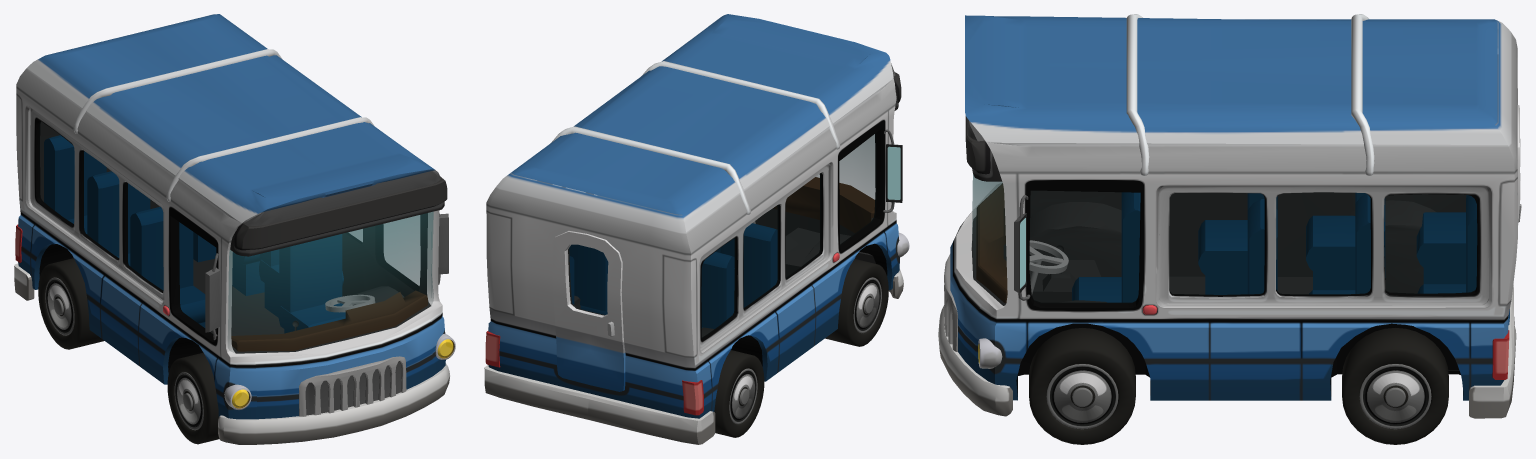
Rendered from bus.glb.
The picture shows the model from 3 angles, left to right: view 1: azimuth 30°, elevation 25°; view 2: azimuth 150°, elevation 25°; view 3: azimuth 270°, elevation 25°; orthographic projection. The views are drawn at different scales.
Parts seen in each view (by area): view 1: HCR2_Bus_Body_25, HCR2_Bus_Windows_0, HCR2_Bus_Seats_3, HCR2_Bus_Interior_12, HCR2_Bus_Front_Bumper_17, HCR2_Bus_Header_14, HCR2_Bus_Dash_23, HCR2_Bus_Grl_15, HCR2_Bus_Header_H_13, HCR2_Bus_Roof_El_4, HCR2_Bus_RR_Tire_7, HCR2_Bus_FR_Tire_18 (+6 smaller); view 2: HCR2_Bus_Body_25, HCR2_Bus_Windows_0, HCR2_Bus_Door_22, HCR2_Bus_Seats_3, HCR2_Bus_Rear_Bumper_6, HCR2_Bus_Roof_El_4, HCR2_Bus_Interior_12, HCR2_Bus_FR_Tire_18, HCR2_Bus_Dash_23, HCR2_Bus_RR_Tire_7, HCR2_Bus_RR_Rim_8, HCR2_Bus_Rear_Lights_5 (+2 smaller); view 3: HCR2_Bus_Body_25, HCR2_Bus_Windows_0, HCR2_Bus_Interior_12, HCR2_Bus_Seats_3, HCR2_Bus_FL_Tire_20, HCR2_Bus_RL_Tire_9, HCR2_Bus_RL_Rim_10, HCR2_Bus_FL_Rim_21, HCR2_Bus_Roof_El_4, HCR2_Bus_Dash_23, HCR2_Bus_Front_Bumper_17, HCR2_Bus_Rear_Bumper_6 (+7 smaller).
Part boxes in pixels (bbox=[...]): HCR2_Bus_Body_25: bbox=[16, 14, 445, 419]; HCR2_Bus_Windows_0: bbox=[39, 121, 433, 352]; HCR2_Bus_Seats_3: bbox=[44, 135, 345, 333]; HCR2_Bus_Interior_12: bbox=[40, 121, 430, 353]; HCR2_Bus_Front_Bumper_17: bbox=[218, 363, 449, 444]; HCR2_Bus_Header_14: bbox=[234, 177, 447, 250]; HCR2_Bus_Dash_23: bbox=[231, 290, 427, 351]; HCR2_Bus_Grl_15: bbox=[299, 356, 406, 416]; HCR2_Bus_Header_H_13: bbox=[230, 171, 444, 256]; HCR2_Bus_Roof_El_4: bbox=[73, 49, 374, 201]; HCR2_Bus_RR_Tire_7: bbox=[38, 258, 104, 349]; HCR2_Bus_FR_Tire_18: bbox=[167, 352, 219, 444]; HCR2_Bus_Body_25: bbox=[486, 14, 899, 418]; HCR2_Bus_Windows_0: bbox=[701, 133, 876, 337]; HCR2_Bus_Door_22: bbox=[551, 231, 625, 391]; HCR2_Bus_Seats_3: bbox=[569, 195, 777, 328]; HCR2_Bus_Rear_Bumper_6: bbox=[484, 365, 715, 444]; HCR2_Bus_Roof_El_4: bbox=[551, 61, 840, 214]; HCR2_Bus_Interior_12: bbox=[537, 180, 875, 337]; HCR2_Bus_FR_Tire_18: bbox=[825, 259, 888, 346]; HCR2_Bus_Dash_23: bbox=[752, 177, 874, 233]; HCR2_Bus_RR_Tire_7: bbox=[714, 350, 764, 437]; HCR2_Bus_RR_Rim_8: bbox=[729, 368, 757, 424]; HCR2_Bus_Rear_Lights_5: bbox=[485, 331, 703, 415]; HCR2_Bus_Body_25: bbox=[950, 15, 1517, 400]; HCR2_Bus_Windows_0: bbox=[972, 174, 1476, 305]; HCR2_Bus_Interior_12: bbox=[971, 55, 1498, 370]; HCR2_Bus_Seats_3: bbox=[1072, 192, 1477, 302]; HCR2_Bus_FL_Tire_20: bbox=[1029, 328, 1135, 444]; HCR2_Bus_RL_Tire_9: bbox=[1342, 328, 1448, 444]; HCR2_Bus_RL_Rim_10: bbox=[1359, 364, 1431, 429]; HCR2_Bus_FL_Rim_21: bbox=[1046, 364, 1118, 429]; HCR2_Bus_Roof_El_4: bbox=[1126, 14, 1374, 175]; HCR2_Bus_Dash_23: bbox=[976, 183, 1041, 303]; HCR2_Bus_Front_Bumper_17: bbox=[938, 305, 1012, 416]; HCR2_Bus_Rear_Bumper_6: bbox=[1469, 284, 1516, 418].
Size of the model in its own units: 2.81 by 2.91 by 4.83.
Materials: 4 (2 with a texture image).
